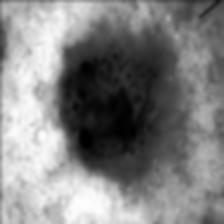Potentially Malignant Skin Tumors: (68, 70, 154, 156)
